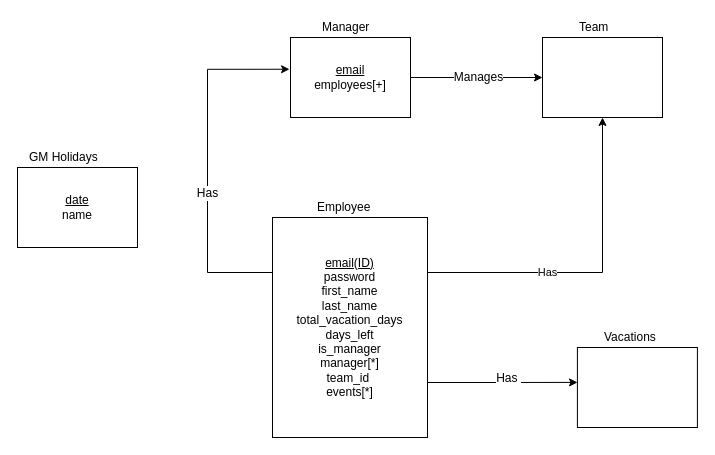
The diagram is 715 pixels wide and 455 high, and some of its shapes have lost their labels. Each missing label, with the box of its shape:
employee_email event_id start_day end_day: (576, 346, 697, 428)
team_id employees[+]: (542, 36, 662, 118)
